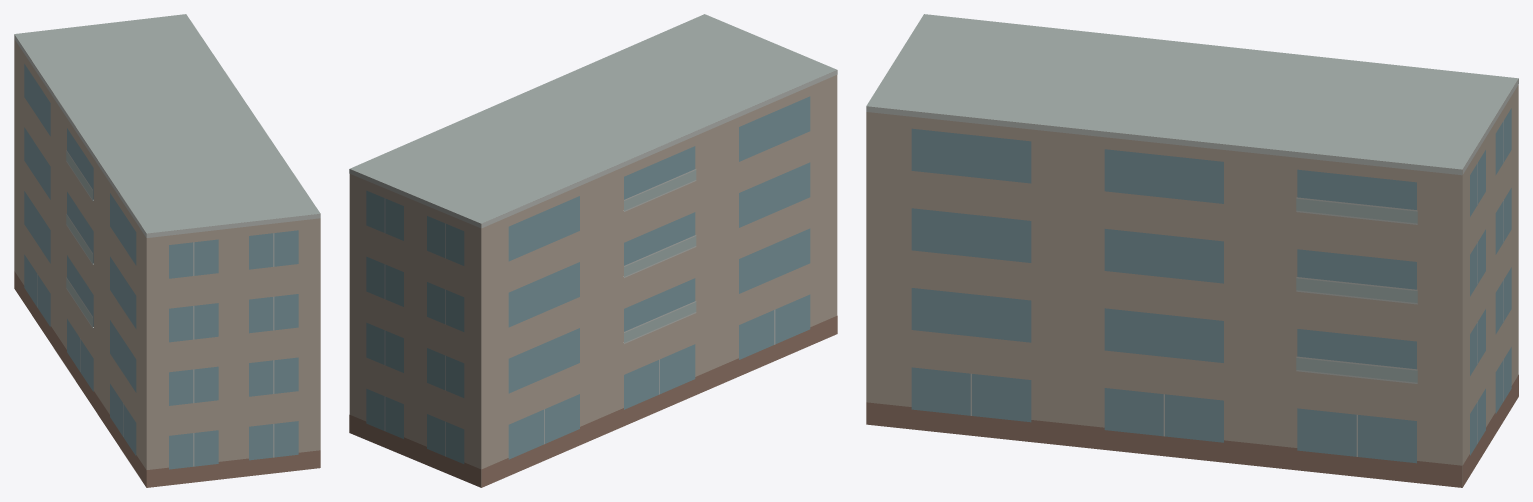
The model's file is survey-upis-32991816.glb.
3 renders of one model, left to right at view 1: azimuth 30°, elevation 25°; view 2: azimuth 150°, elevation 25°; view 3: azimuth 270°, elevation 25°, orthographic. The views are drawn at different scales.
Visible parts, largest first — view 1: survey-upis-32991816.tmp; view 2: survey-upis-32991816.tmp; view 3: survey-upis-32991816.tmp.
Part boxes in pixels (x1,y1,x2,y2): survey-upis-32991816.tmp: (14,14,320,487); survey-upis-32991816.tmp: (349,14,837,487); survey-upis-32991816.tmp: (866,14,1518,487).
Bounding box in the file's own units: 14.27 × 13.6 × 25.28.
